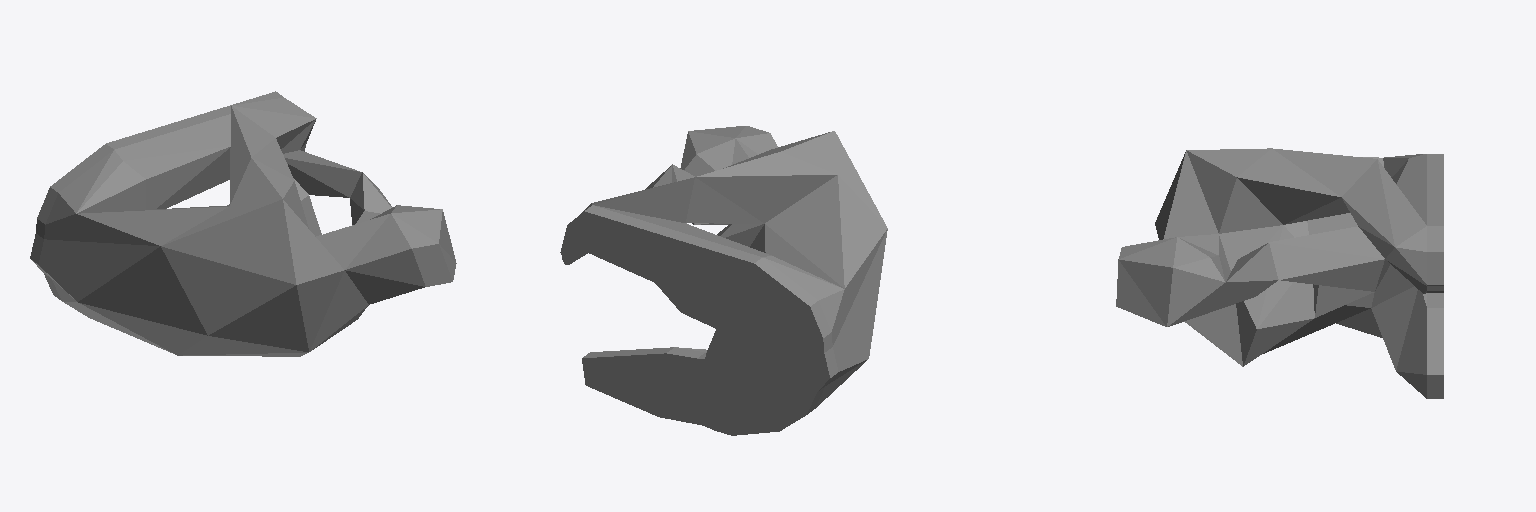
Rendered from thinker_cut.obj.
3 views of the same model, side by side, from view 1: azimuth 30°, elevation 25°; view 2: azimuth 150°, elevation 25°; view 3: azimuth 270°, elevation 25° (orthographic).
Visible parts, largest first — view 1: Lowest_poly_thinker; view 2: Lowest_poly_thinker; view 3: Lowest_poly_thinker.
Part boxes in pixels (bbox=[...]): Lowest_poly_thinker: bbox=[30, 91, 456, 356]; Lowest_poly_thinker: bbox=[560, 126, 887, 435]; Lowest_poly_thinker: bbox=[1116, 148, 1443, 398].
Bounding box in the file's own units: 43.14 × 31.09 × 42.46.